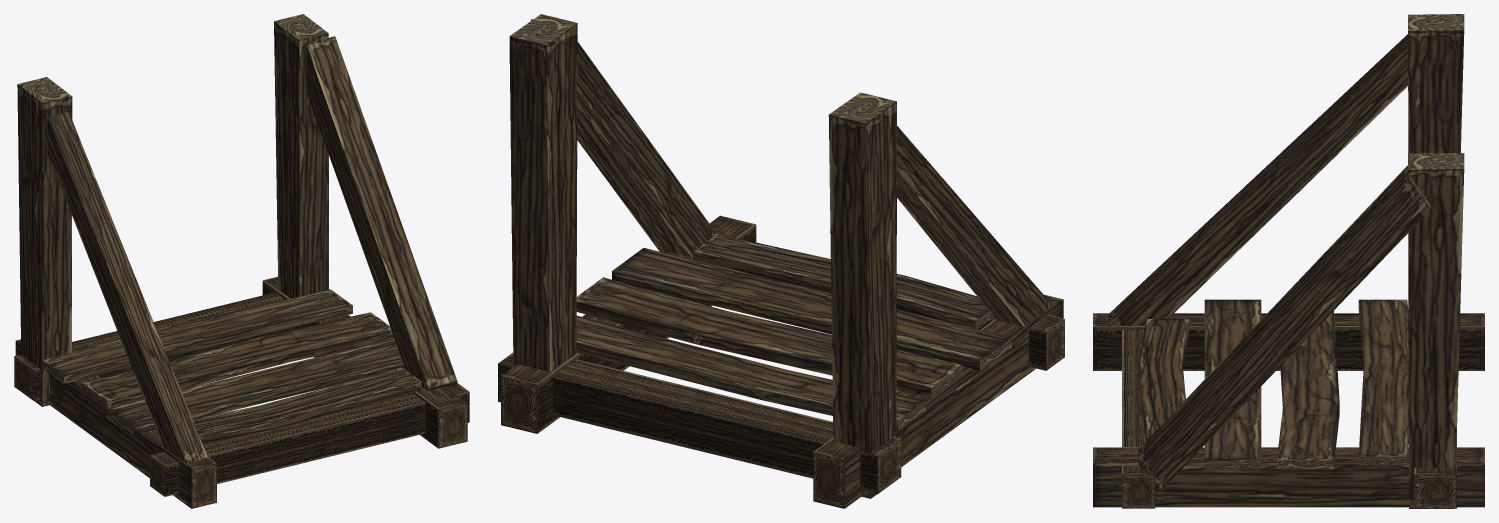
The model's file is Bridge_4X4_01.fbx.
3 views of the same model, side by side, from view 1: azimuth 30°, elevation 25°; view 2: azimuth 150°, elevation 25°; view 3: azimuth 270°, elevation 25° (orthographic). The views are drawn at different scales.
Visible parts, largest first — view 1: Bridge_4X4_Deck, Bridge_4X4_Side_01, Bridge_4X4_Side_02; view 2: Bridge_4X4_Deck, Bridge_4X4_Side_01, Bridge_4X4_Side_02; view 3: Bridge_4X4_Deck, Bridge_4X4_Side_01, Bridge_4X4_Side_02.
Boxes of the visible parts, box(x1,y1,x2,y2) form: Bridge_4X4_Deck: box(14, 276, 469, 508); Bridge_4X4_Side_01: box(274, 14, 457, 390); Bridge_4X4_Side_02: box(17, 77, 207, 463); Bridge_4X4_Deck: box(498, 215, 1064, 508); Bridge_4X4_Side_01: box(509, 14, 716, 371); Bridge_4X4_Side_02: box(828, 92, 1051, 498); Bridge_4X4_Deck: box(1093, 299, 1484, 508); Bridge_4X4_Side_01: box(1138, 153, 1464, 508); Bridge_4X4_Side_02: box(1108, 14, 1464, 326).
Size of the model in its own units: 4 by 3.82 by 4.
